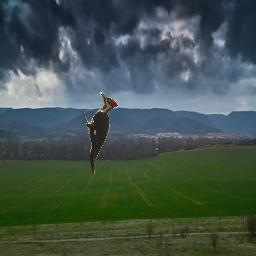Woodpecker: (81, 92, 119, 175)
